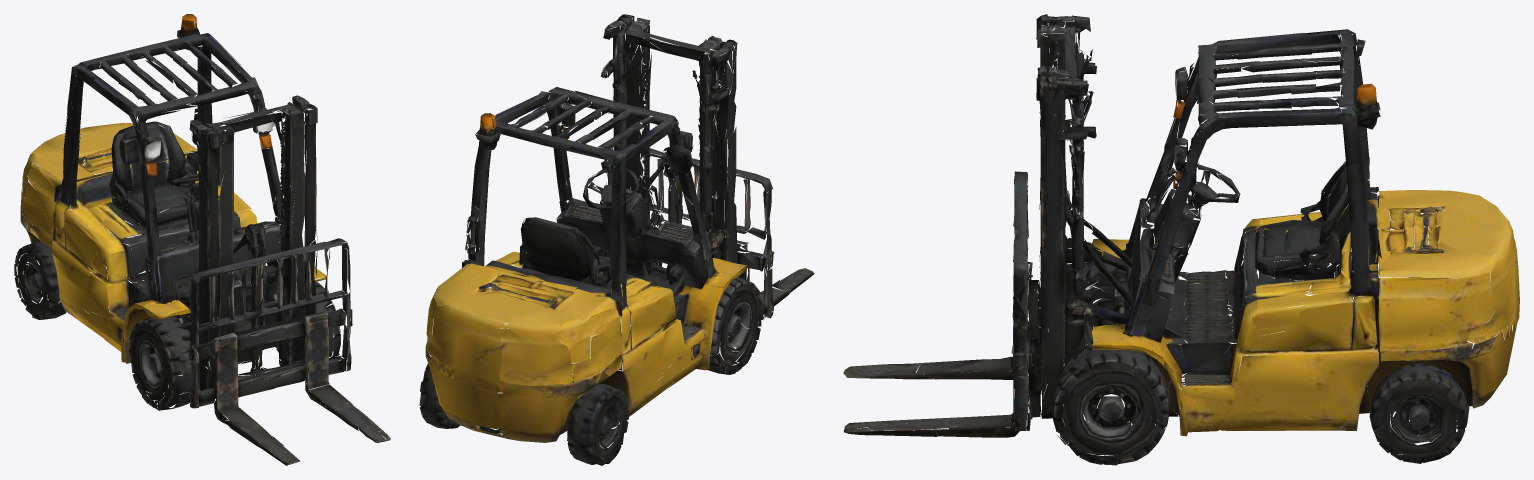
Rendered from h_forklift.glb.
The picture shows the model from 3 angles, left to right: view 1: azimuth 30°, elevation 25°; view 2: azimuth 150°, elevation 25°; view 3: azimuth 270°, elevation 25°; orthographic projection. The views are drawn at different scales.
Parts seen in each view (by area): view 1: tripo_node_1e8829c5-a292-4b58-8115-0cd32ac6d07f; view 2: tripo_node_1e8829c5-a292-4b58-8115-0cd32ac6d07f; view 3: tripo_node_1e8829c5-a292-4b58-8115-0cd32ac6d07f.
Part boxes in pixels (<box>): tripo_node_1e8829c5-a292-4b58-8115-0cd32ac6d07f: <box>14,14,390,465</box>; tripo_node_1e8829c5-a292-4b58-8115-0cd32ac6d07f: <box>419,14,814,465</box>; tripo_node_1e8829c5-a292-4b58-8115-0cd32ac6d07f: <box>843,14,1519,465</box>.
Bounding box in the file's own units: 0.3665 × 0.5906 × 0.9801.
1 material, 1 textured.
